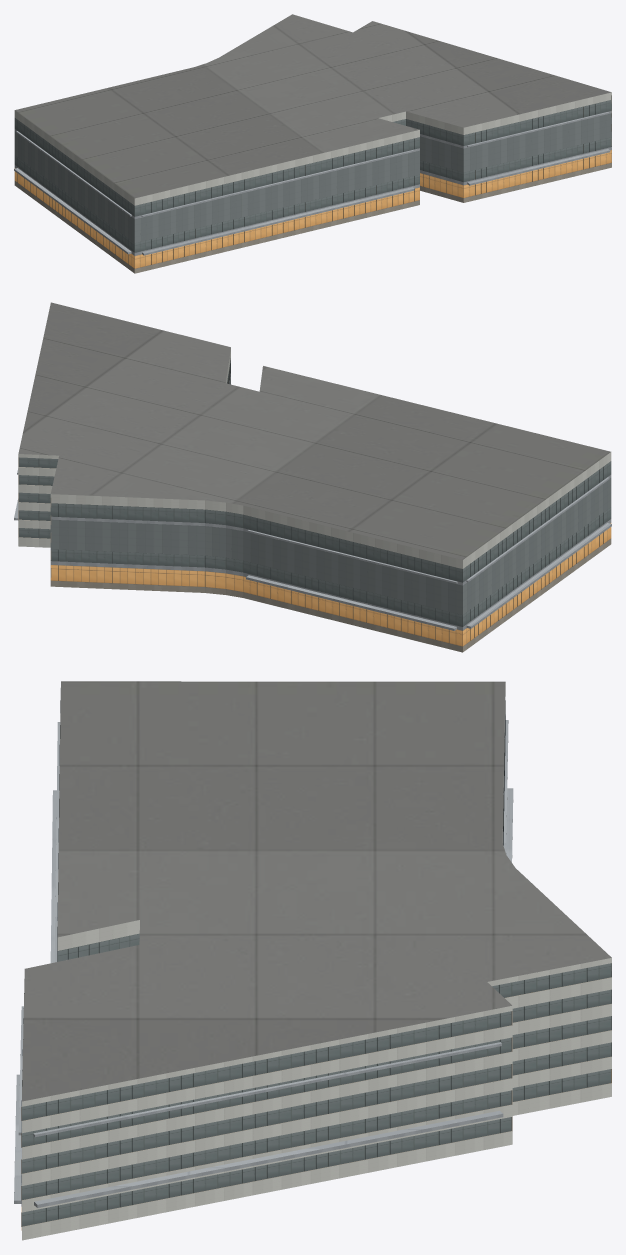
File: student_union_student_success_center.glb
3 renders of one model, top to bottom at view 1: azimuth 30°, elevation 25°; view 2: azimuth 150°, elevation 25°; view 3: azimuth 270°, elevation 25°, orthographic. The views are drawn at different scales.
Parts seen in each view (by area): view 1: student_union_student_success_center_CampusAtlas_facade.055, student_union_student_success_center_CampusAtlas_glass.055, student_union_student_success_center_CampusAtlas_glassWarm.0; view 2: student_union_student_success_center_CampusAtlas_facade.055, student_union_student_success_center_CampusAtlas_glass.055, student_union_student_success_center_CampusAtlas_glassWarm.0; view 3: student_union_student_success_center_CampusAtlas_facade.055, student_union_student_success_center_CampusAtlas_glass.055.
Boxes of the visible parts, x1,y1,x2,y2 form: student_union_student_success_center_CampusAtlas_facade.055: (14,14,611,273); student_union_student_success_center_CampusAtlas_glass.055: (14,95,611,252); student_union_student_success_center_CampusAtlas_glassWarm.0: (14,150,611,268); student_union_student_success_center_CampusAtlas_facade.055: (14,302,611,652); student_union_student_success_center_CampusAtlas_glass.055: (19,358,611,626); student_union_student_success_center_CampusAtlas_glassWarm.0: (50,523,611,646); student_union_student_success_center_CampusAtlas_facade.055: (14,681,611,1240); student_union_student_success_center_CampusAtlas_glass.055: (21,714,611,1226).
Bounding box in the file's own units: 162 × 24.75 × 96.53.
Materials: 3 (3 with a texture image).
